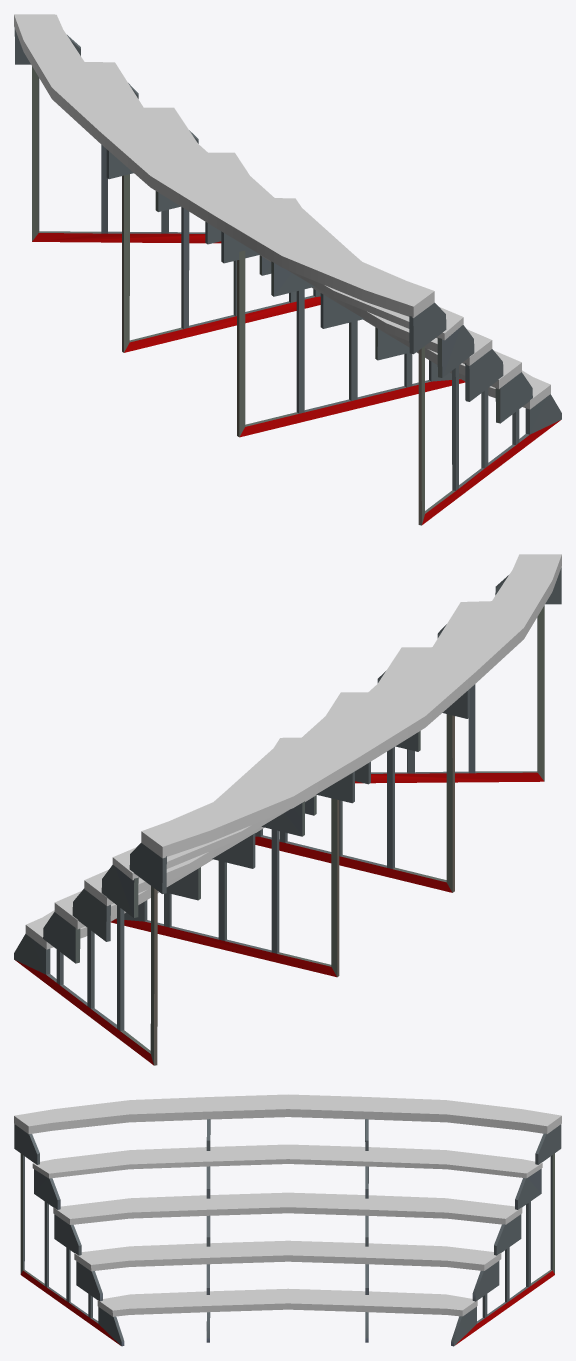
The model's file is schody.fbx.
3 renders of one model, top to bottom at view 1: azimuth 30°, elevation 25°; view 2: azimuth 150°, elevation 25°; view 3: azimuth 270°, elevation 25°, orthographic. The views are drawn at different scales.
Visible parts, largest first — view 1: Mesh (3), Mesh (2); view 2: Mesh (3), Mesh (2); view 3: Mesh (3), Mesh (2).
Part boxes in pixels (<box>): Mesh (3): <box>14,14,550,409</box>; Mesh (2): <box>14,27,561,525</box>; Mesh (3): <box>25,554,561,949</box>; Mesh (2): <box>14,567,561,1065</box>; Mesh (3): <box>14,1094,561,1316</box>; Mesh (2): <box>14,1119,561,1346</box>.
Bounding box in the file's own units: 355 × 263 × 845.
